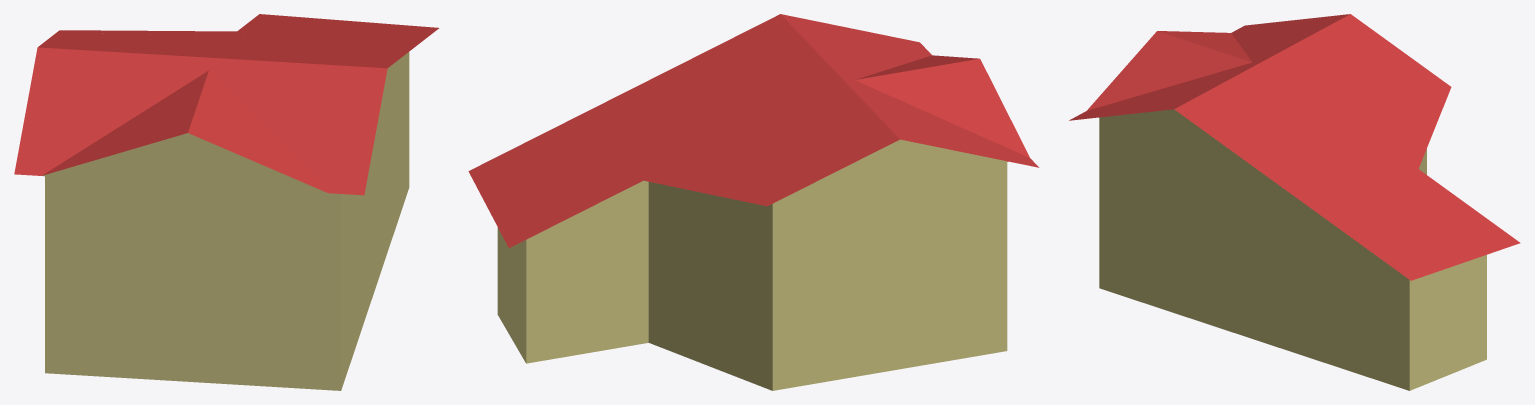
The picture shows the model from 3 angles, left to right: view 1: azimuth 30°, elevation 25°; view 2: azimuth 150°, elevation 25°; view 3: azimuth 270°, elevation 25°; orthographic projection. The views are drawn at different scales.
Size of the model in its own units: 22.33 by 20.45 by 10.75.
